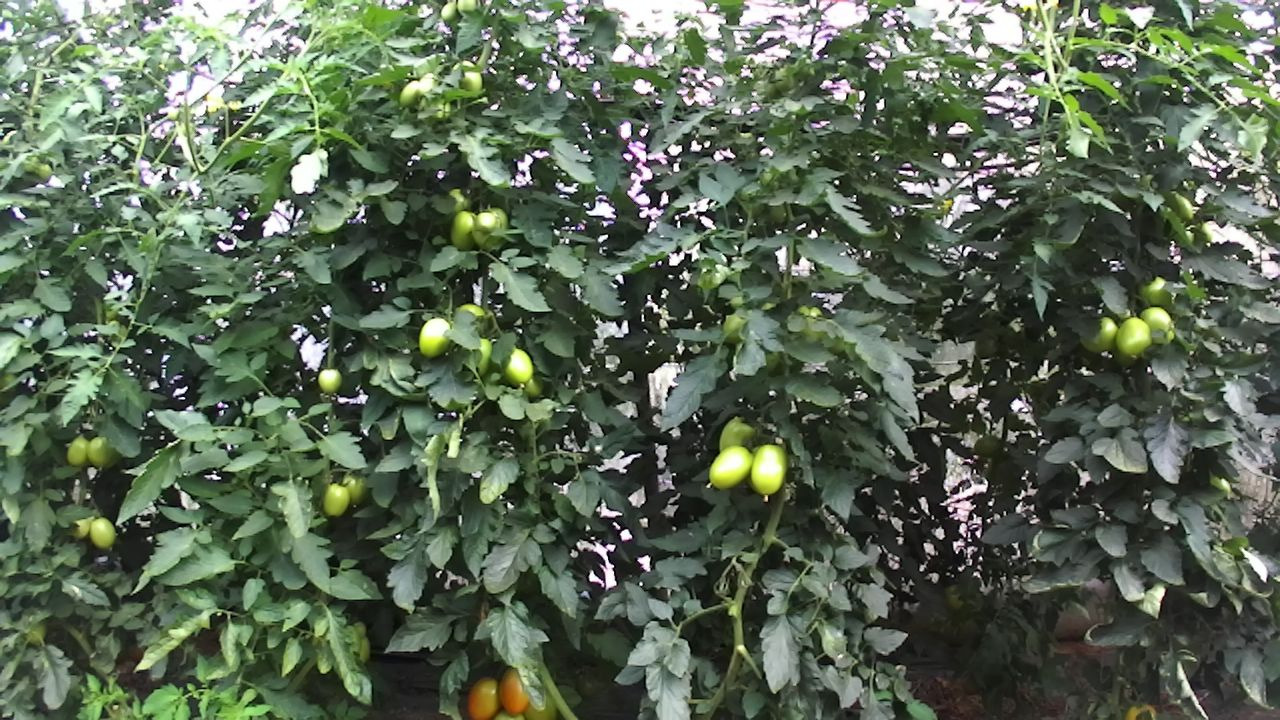tomato: (706, 441, 757, 494), (713, 412, 765, 458), (749, 440, 789, 499), (494, 664, 532, 718), (1111, 312, 1153, 360), (413, 314, 454, 361), (465, 674, 502, 720), (501, 342, 537, 389), (448, 207, 481, 255), (84, 433, 119, 472), (321, 477, 351, 521), (87, 514, 118, 553), (1139, 304, 1177, 334), (65, 430, 90, 469), (395, 77, 420, 110), (316, 365, 343, 395), (472, 208, 497, 235)
